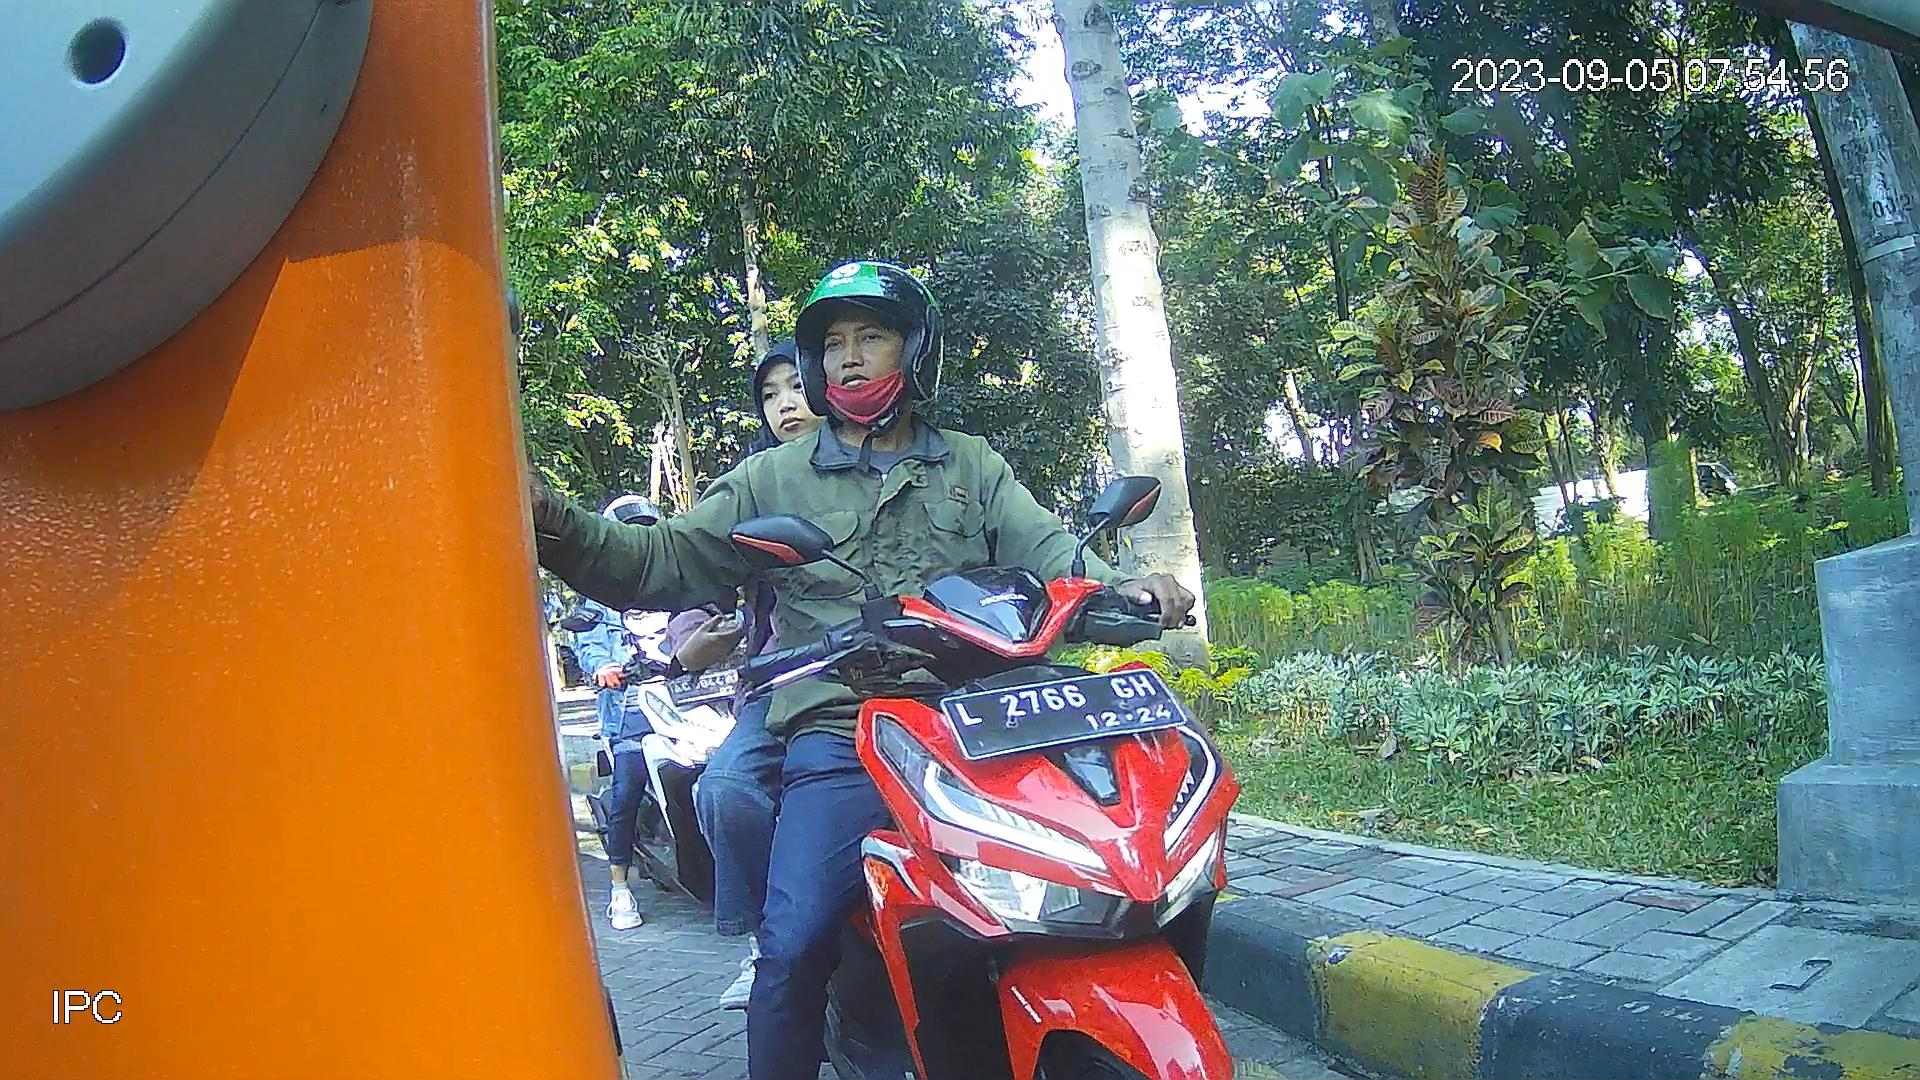plat: (935, 665, 1193, 765)
